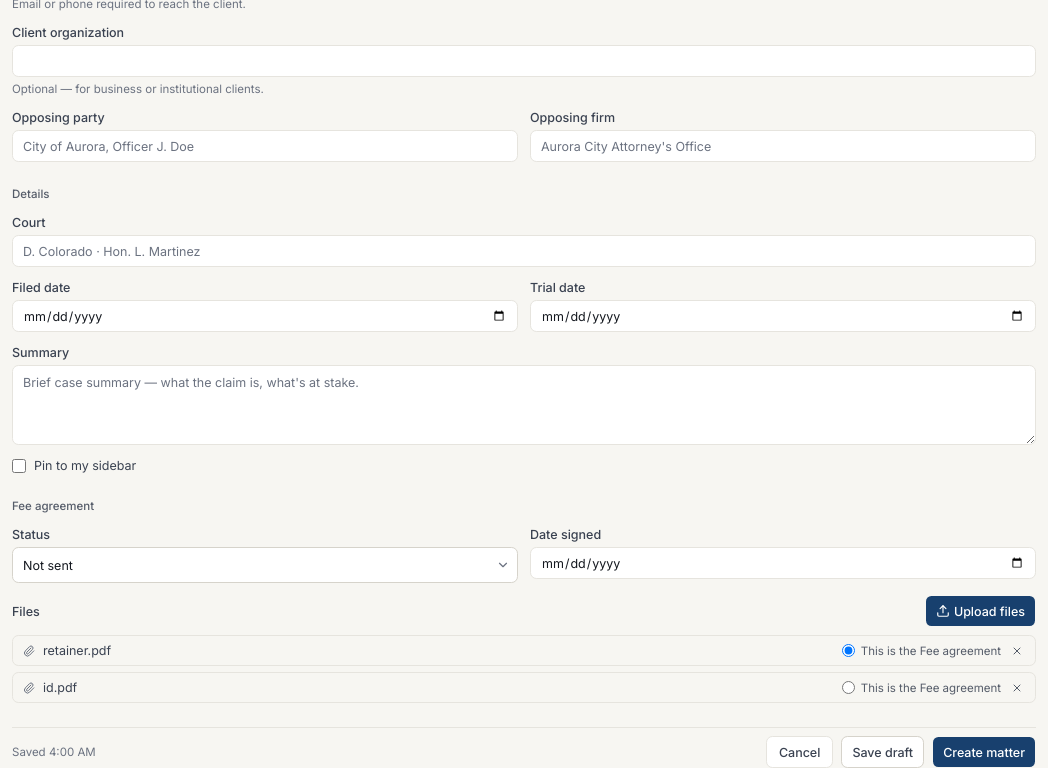
Test: NewMatterForm - Save draft › Create's used-draft refusal shows prominently at the top (Review Focus 1)
(page scrolled)
Click the button "Create matter" at x=984, y=752, box top-left (932, 736), bottom-right (1036, 767)
(page scrolled)
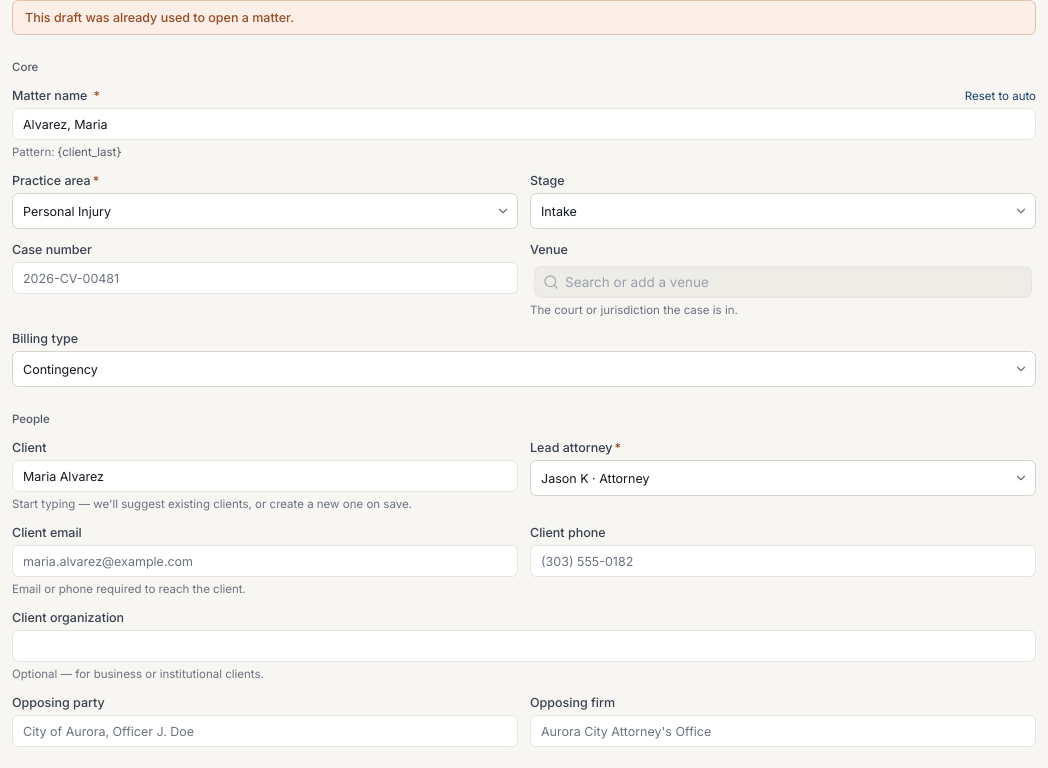
Now the message reads "This draft was already used to open a matter.", box top-left (25, 10), bottom-right (294, 25)
